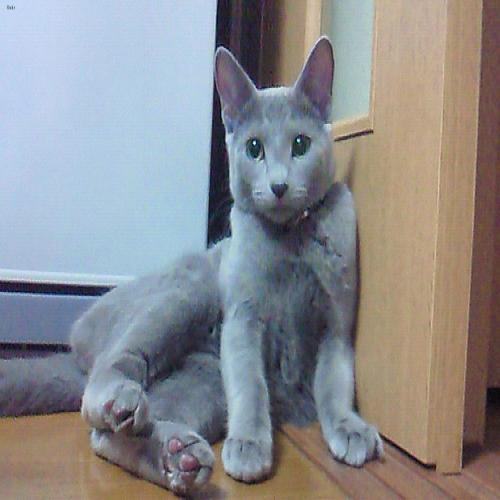rblue: (211, 36, 344, 234)
